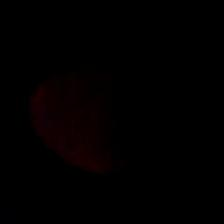fertile: (26, 61, 192, 175)
